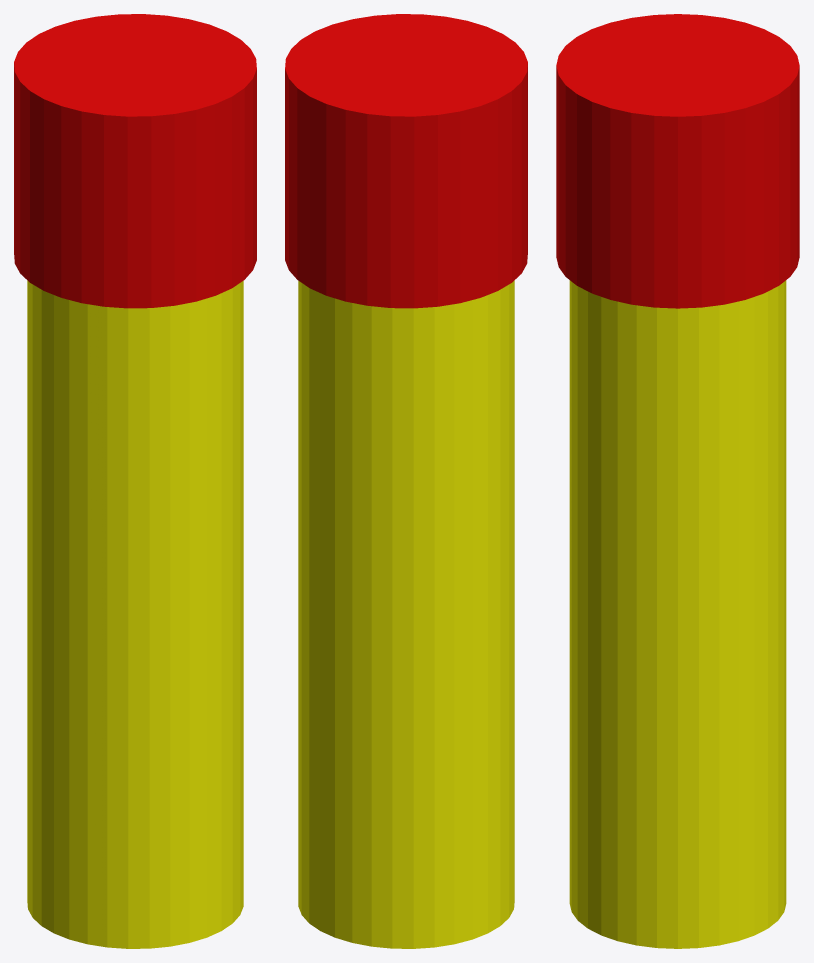
Rendered from rpt.dae.
3 renders of one model, left to right at view 1: azimuth 30°, elevation 25°; view 2: azimuth 150°, elevation 25°; view 3: azimuth 270°, elevation 25°, orthographic.
Parts seen in each view (by area): view 1: base, cap; view 2: base, cap; view 3: base, cap.
Part boxes in pixels (x1,y1,x2,y2): base: [27, 280, 243, 948]; cap: [14, 14, 256, 308]; base: [298, 280, 514, 948]; cap: [285, 14, 527, 308]; base: [569, 280, 786, 948]; cap: [556, 14, 799, 308].
Bounding box in the file's own units: 0.092 × 0.092 × 0.3495.
